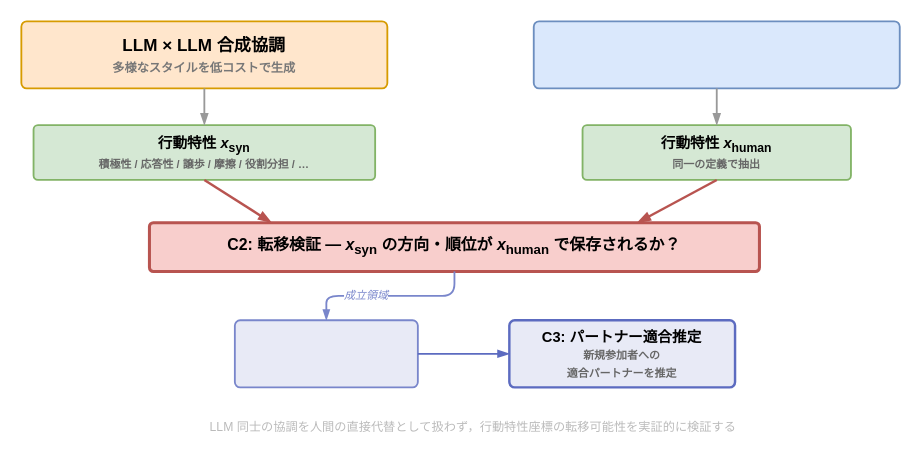
This 922x456 diagram has some shape labels left out. Each missing label, with the centre of its shape:
Human × LLM 協調 少数の検証データ: point 716,54
較正 少数の人間データで 選好モデルを学習: point 325,353
